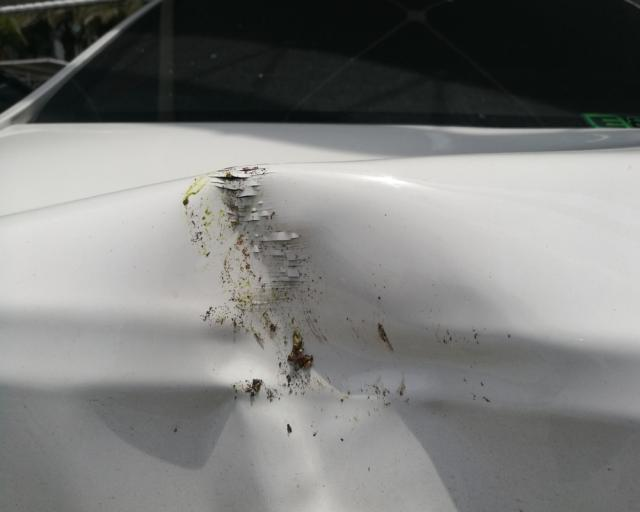dent: (87, 166, 519, 512)
